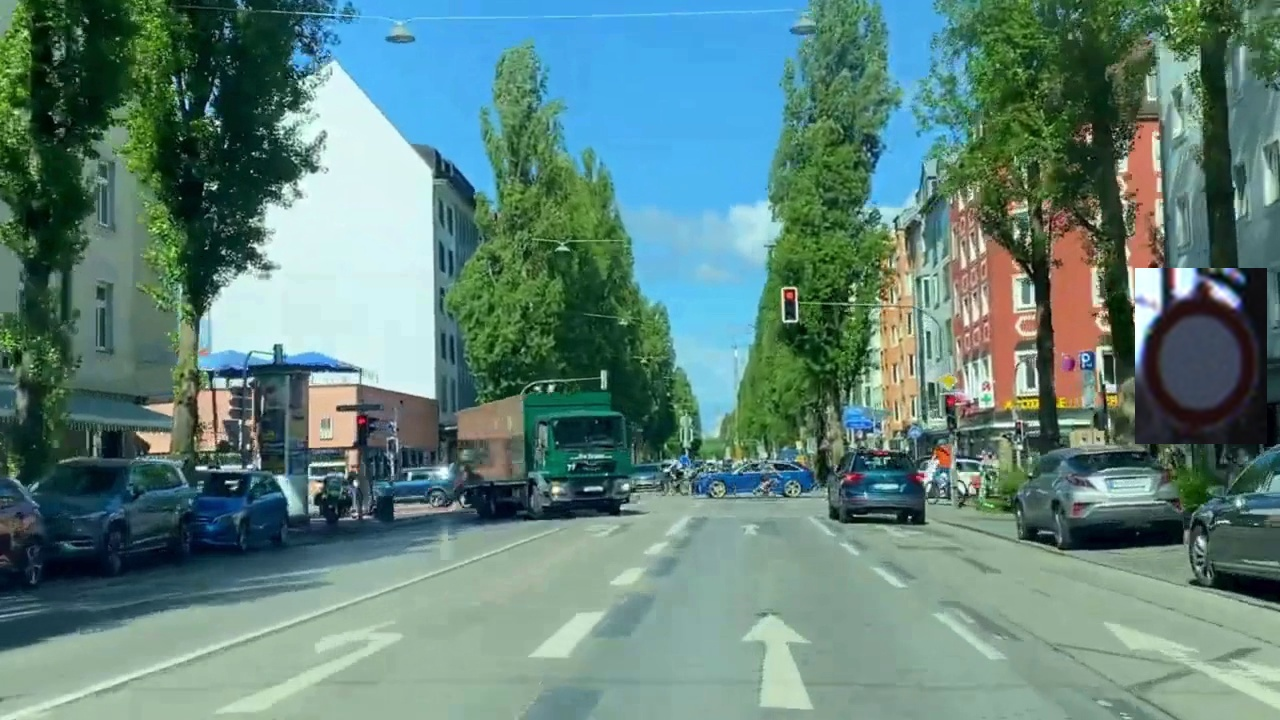No vehicles: (1135, 268, 1267, 444)
